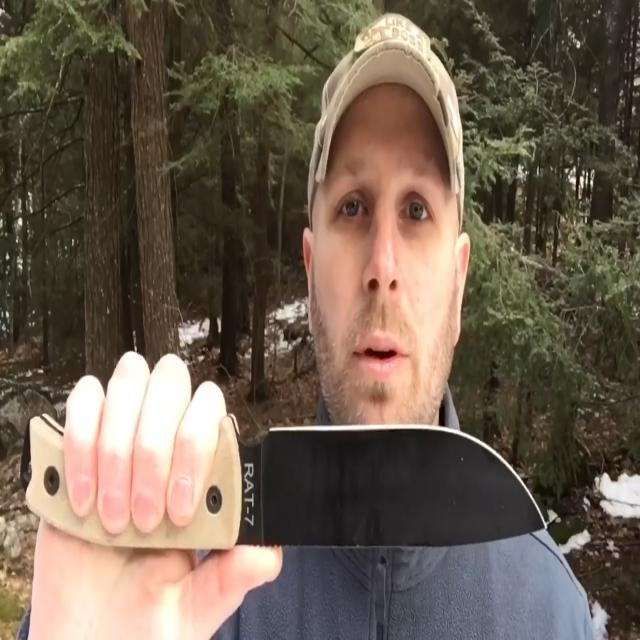knife: (19, 370, 549, 562)
